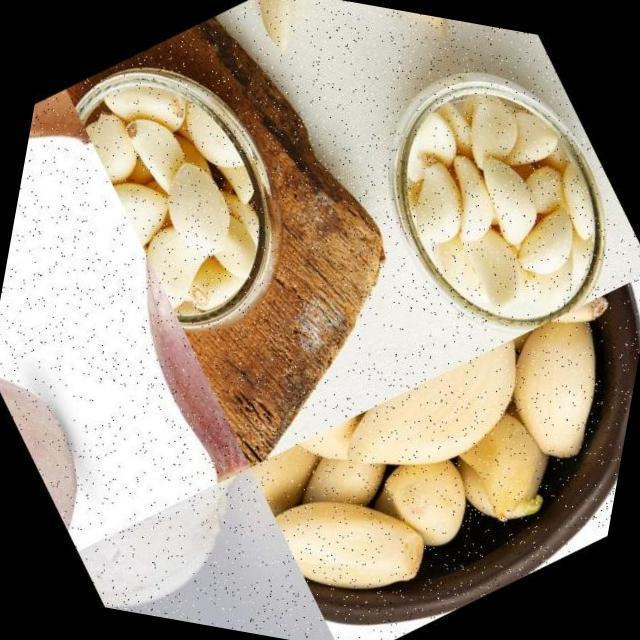garlic: (339, 35, 640, 365), (40, 29, 338, 348), (320, 308, 564, 529), (70, 442, 296, 636), (254, 441, 455, 640), (461, 287, 640, 490), (242, 433, 338, 529), (237, 0, 355, 68), (351, 2, 462, 58)
